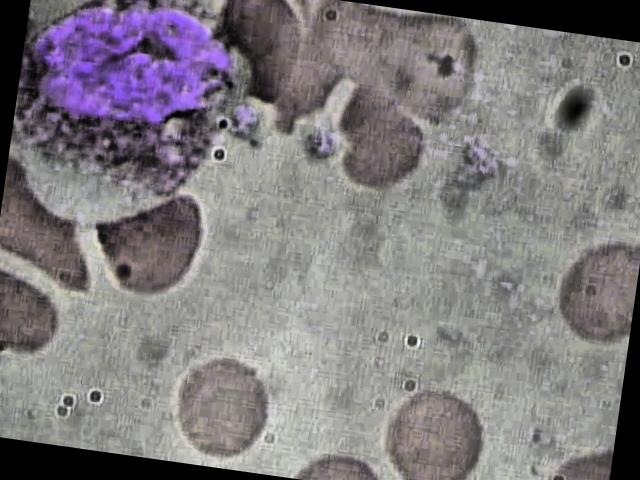Platelets: (229, 100, 267, 144), (303, 127, 338, 165)
RBC: (84, 177, 218, 308), (312, 78, 446, 209), (517, 226, 640, 354), (159, 348, 283, 474), (372, 377, 496, 480)
WBC: (7, 0, 255, 207)
